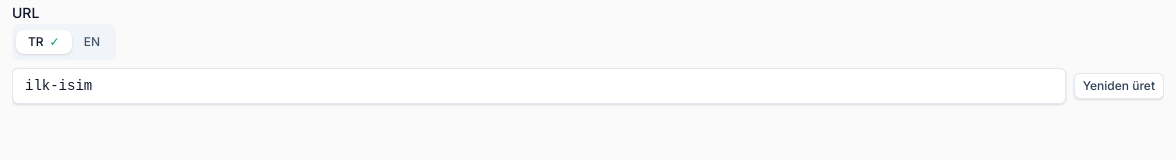
it: LocaleSlug › 4. "Yeniden üret" → source'dan slug yeniden
The image size is (1176, 160).
Replace the text in the field with "elle": (539, 86) [12,68,1066,104]
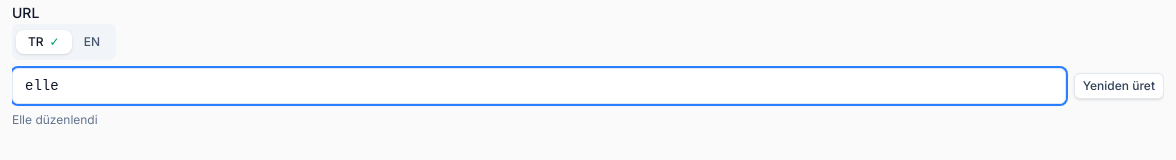
Click the button "Yeniden üret": click(1119, 86) [1074,73,1164,99]
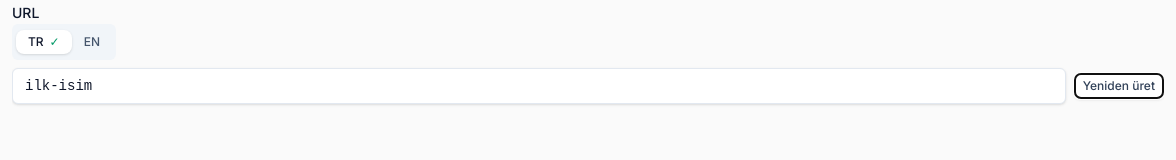
Now the field holds "ilk-isim", box [12,68,1066,104]
